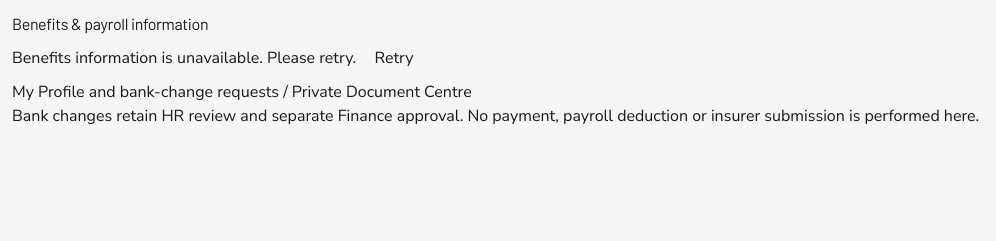
retry recovers from a personal API failure
expect the message "Benefits information is unavailable. Please retry. Retry" is shown: met, box [12,36,428,80]
Click the button "Retry". click: (394, 58)
box: [360,36,428,80]
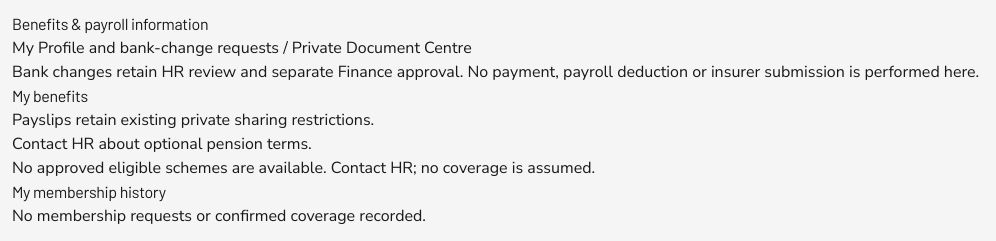
expect the message "Benefits information is unavailable. Please retry. Retry" is gone: met
